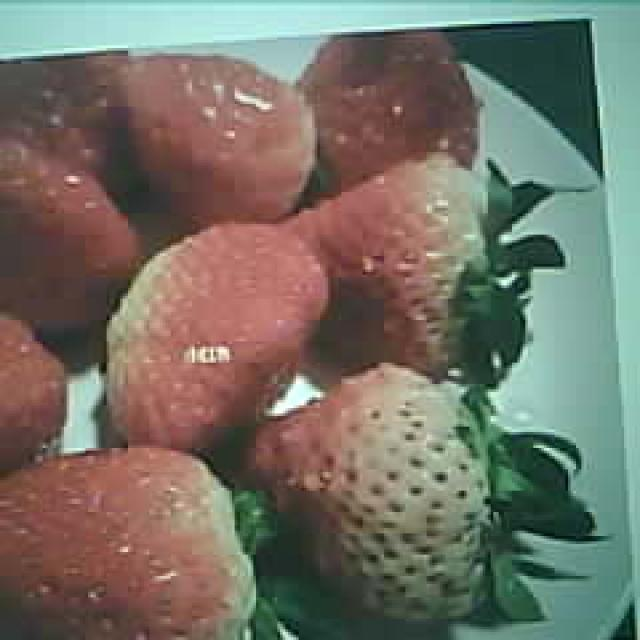strawberry: (259, 370, 534, 622), (0, 446, 263, 640), (292, 166, 518, 374)
